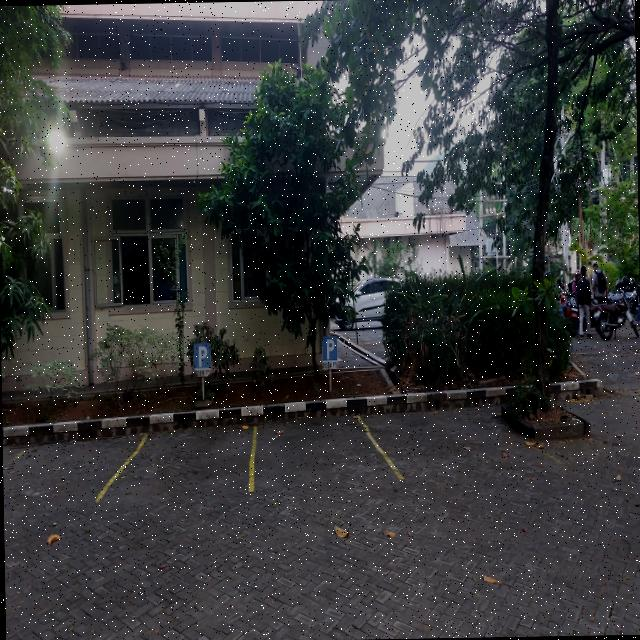empty: (353, 405, 559, 478), (94, 423, 256, 501), (249, 411, 402, 491), (3, 434, 147, 505)
